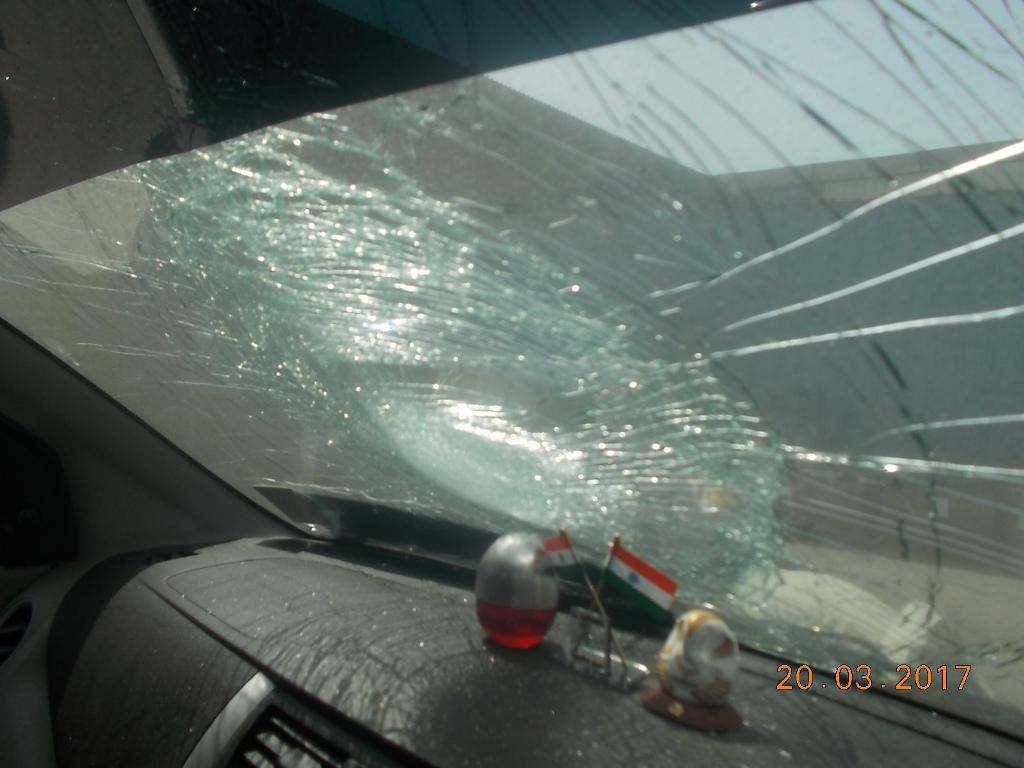Shatter: (211, 159, 974, 504), (668, 515, 971, 606), (93, 193, 190, 353)
